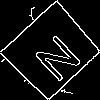N: (26, 26, 83, 84)
